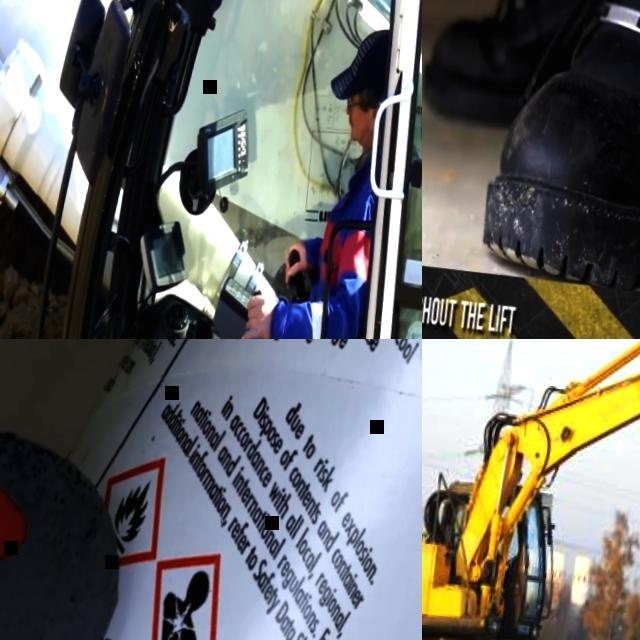NO-Hardhat: (347, 23, 393, 102)
NO-Mask: (347, 117, 372, 146)
Person: (194, 7, 398, 339), (422, 0, 640, 290)
Safety Vest: (300, 170, 379, 339)
machinery: (0, 0, 422, 339), (422, 339, 640, 640)
